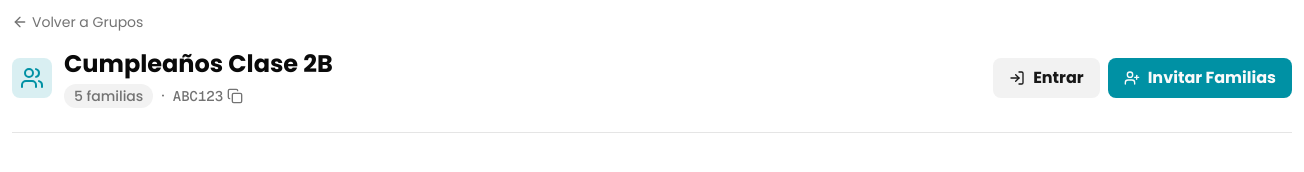
it: GroupHeader › muestra feedback al hacer clic en Invitar Familias
Click the button "Invitar Familias": click(1200, 78) [1108,58,1292,98]
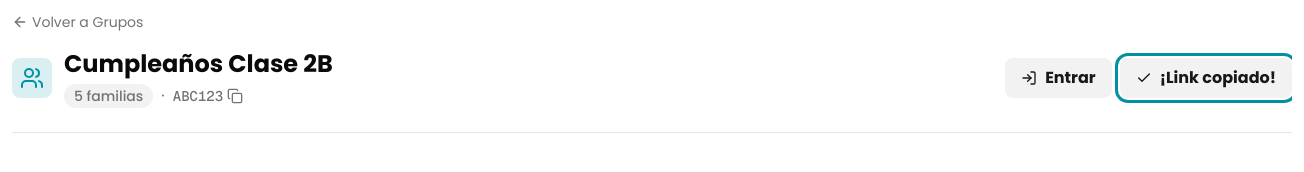
expect the button "¡Link copiado!" is shown: met, box [1120,58,1292,98]
